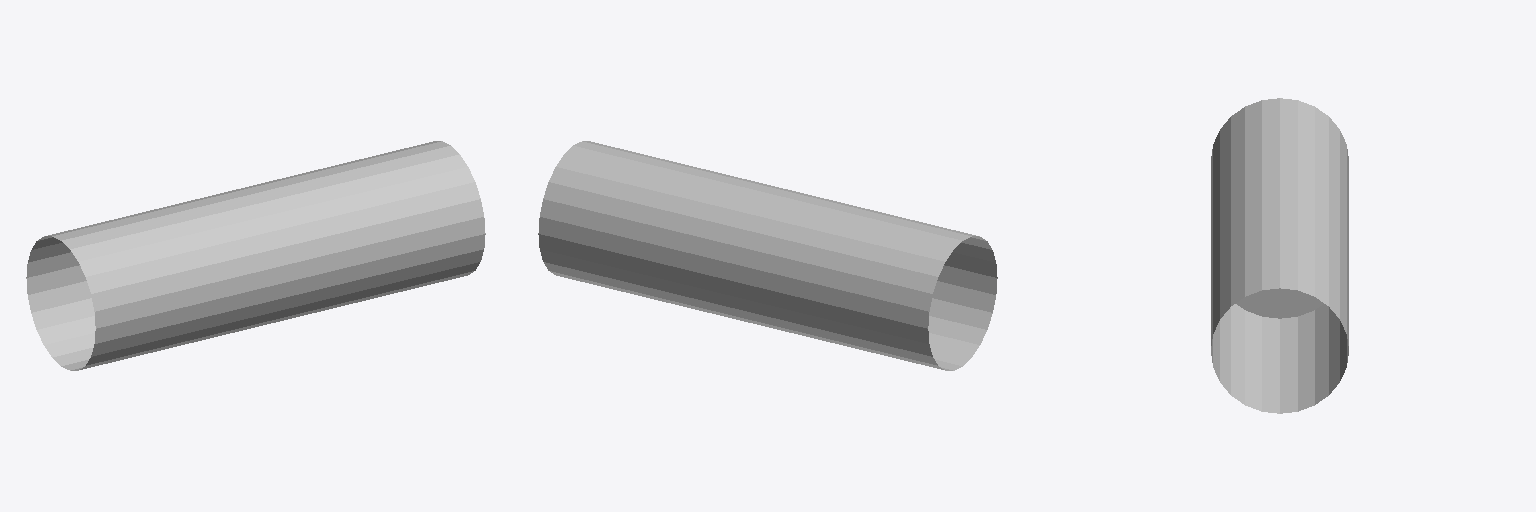
The model's file is original-241.obj.
The picture shows the model from 3 angles: view 1: azimuth 30°, elevation 25°; view 2: azimuth 150°, elevation 25°; view 3: azimuth 270°, elevation 25°; orthographic projection.
Parts seen in each view (by area): view 1: #ID1481; view 2: #ID1481; view 3: #ID1481.
Boxes of the visible parts, x1,y1,x2,y2 form: #ID1481: [26, 141, 485, 370]; #ID1481: [538, 141, 997, 370]; #ID1481: [1211, 98, 1348, 413].
Size of the model in its own units: 0.0196 by 0.006 by 0.006.